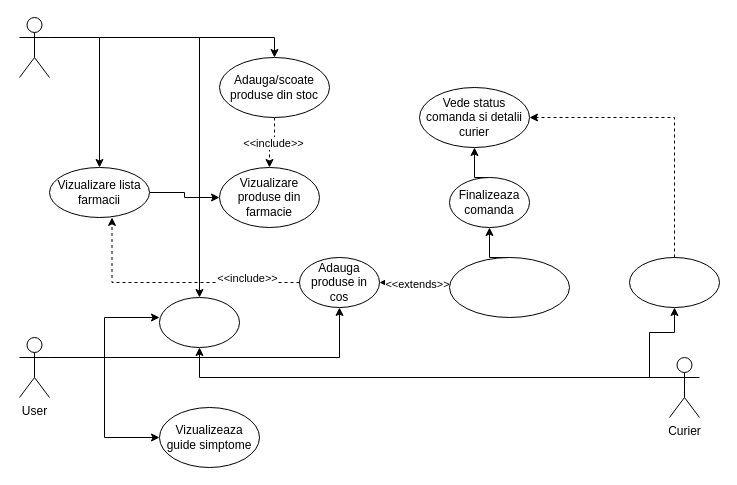
Some shapes in this 737 by 485 pixel diagram are drawn without their labels. Each missing label, with the box of its shape:
Admin: (18, 16, 50, 78)
Login/Logout: (158, 296, 240, 348)
Modifica statusul comenzii: (628, 256, 720, 308)
Schimba cantitatea produselor in cos: (448, 256, 570, 318)
